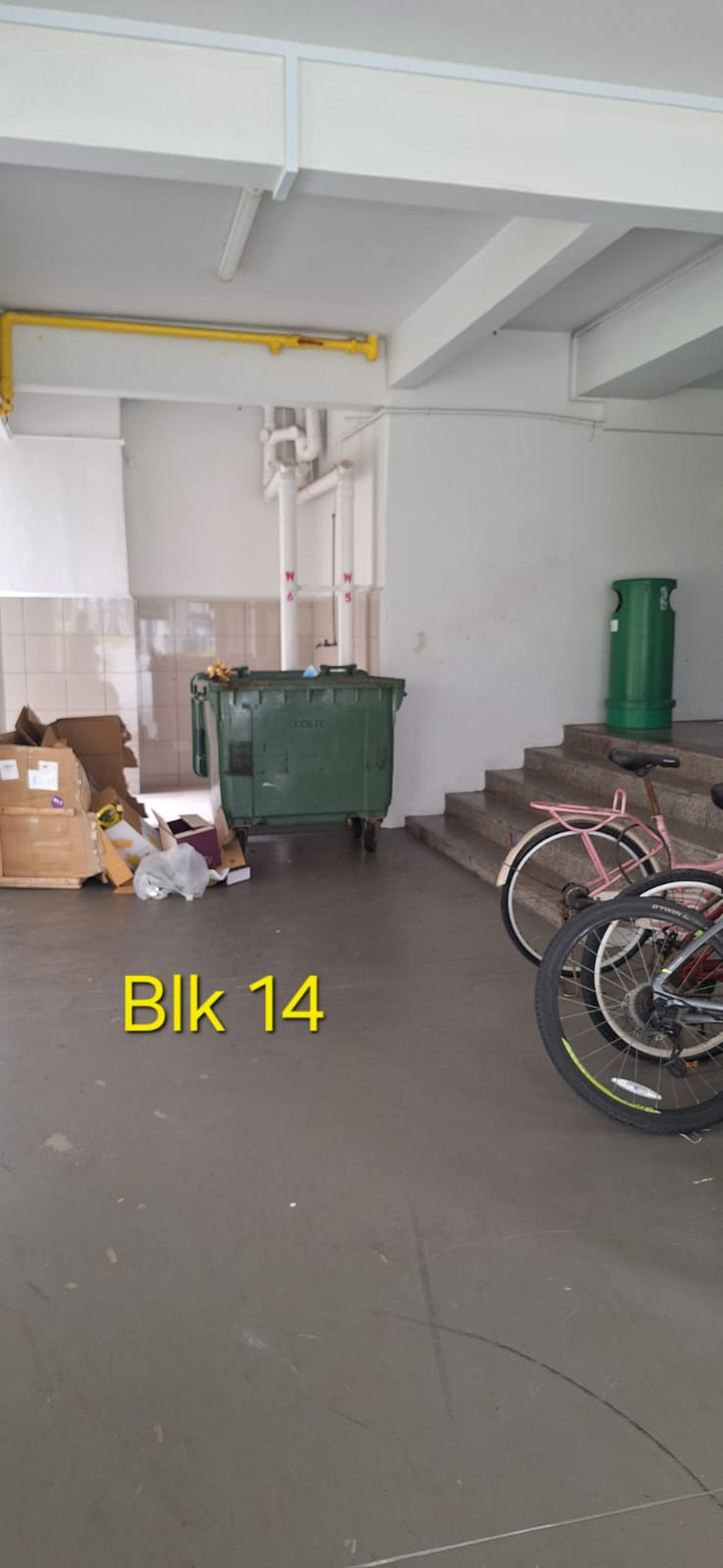bin_empty: (191, 663, 405, 852), (605, 577, 676, 731)
bulk_waste: (0, 710, 250, 901)
